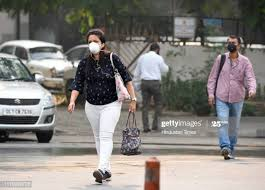mask: (85, 29, 105, 55), (226, 33, 240, 53)
